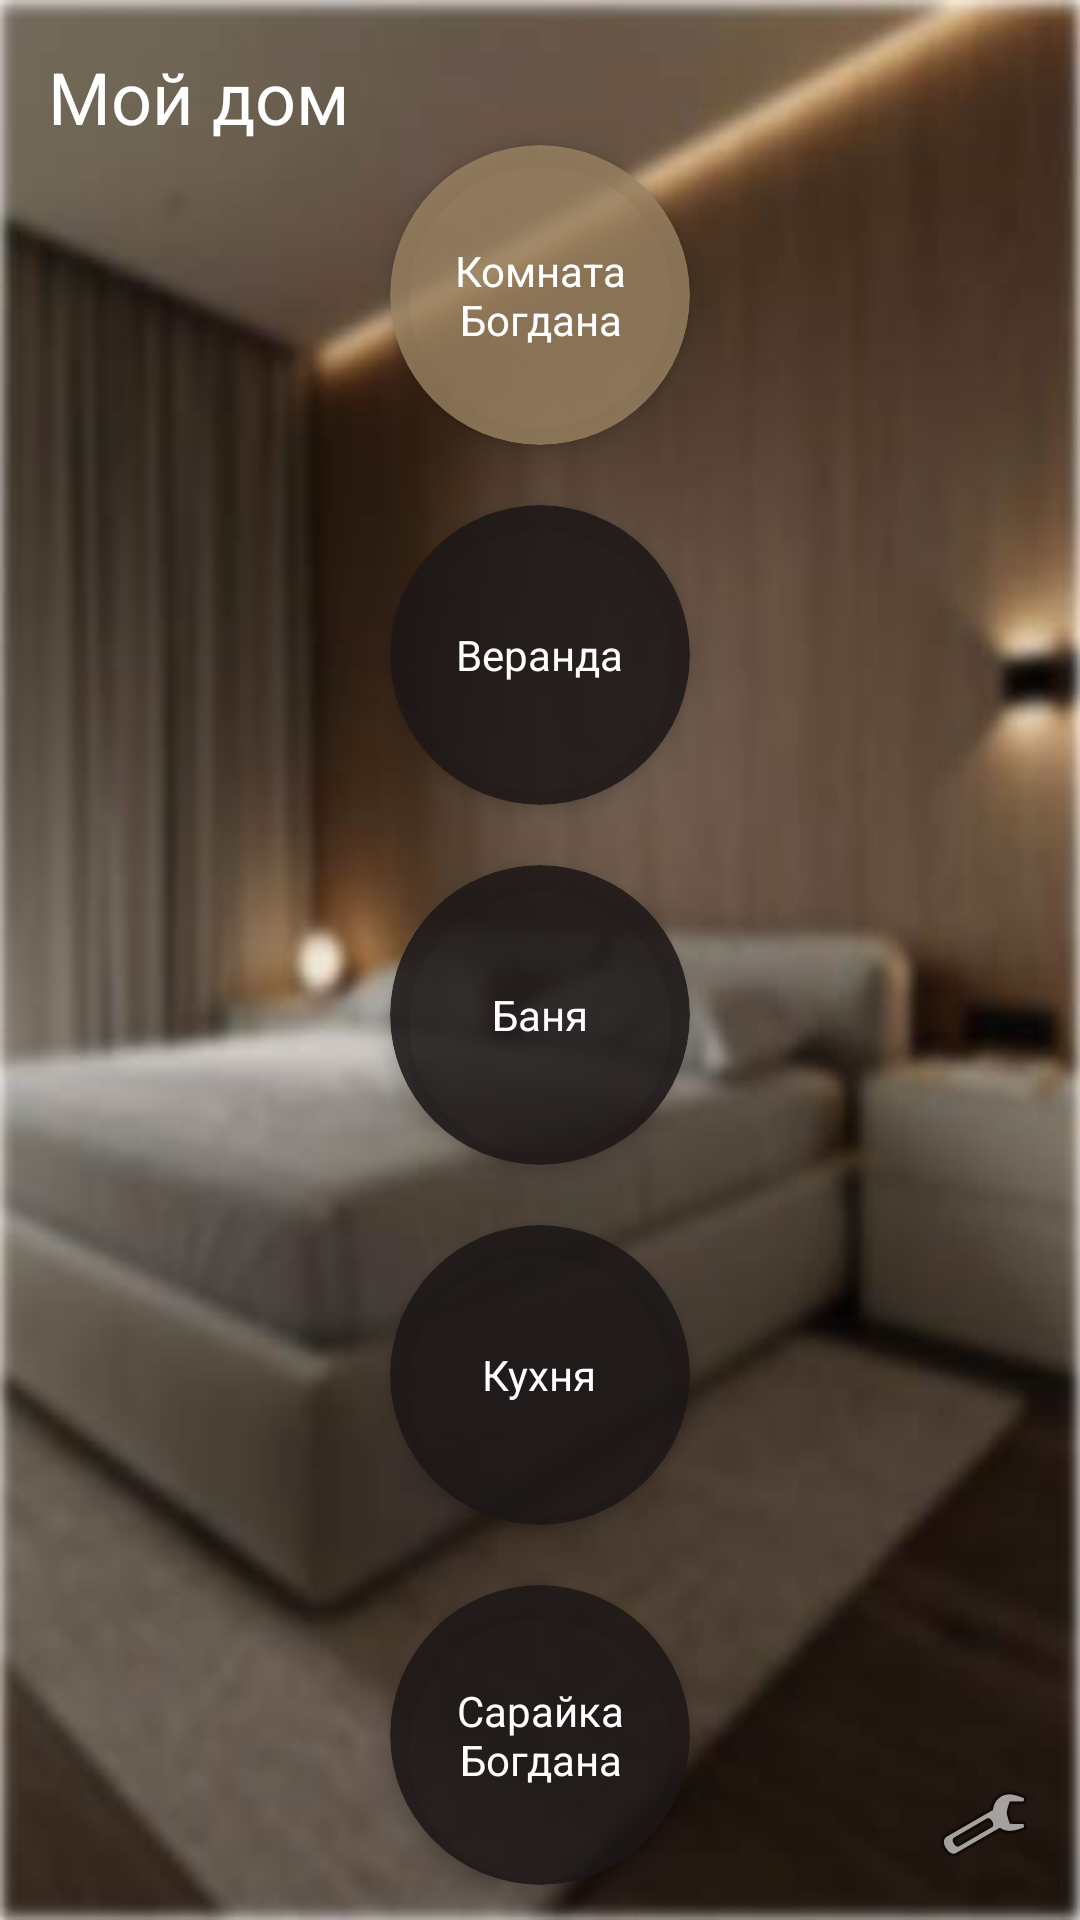

Where icons sit on this 1080w x 1920h app screen, as (x1, y1, x2, y2):
preferences: (944, 1794, 1024, 1854)
